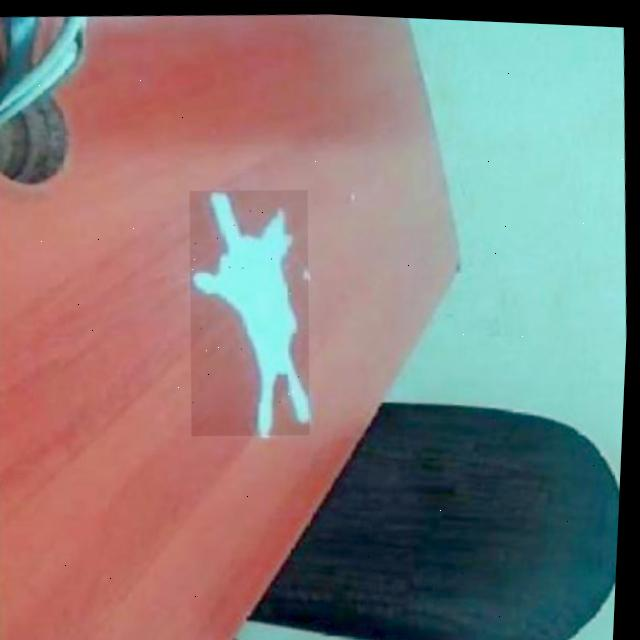spillage: (193, 188, 313, 431)
